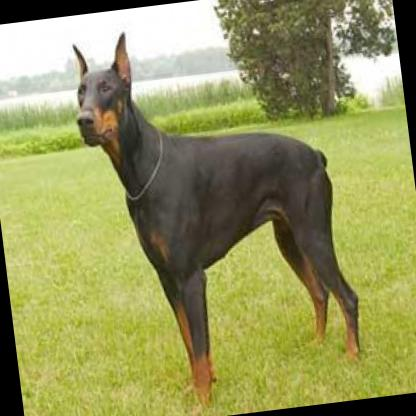Doberman: (60, 1, 366, 416)
